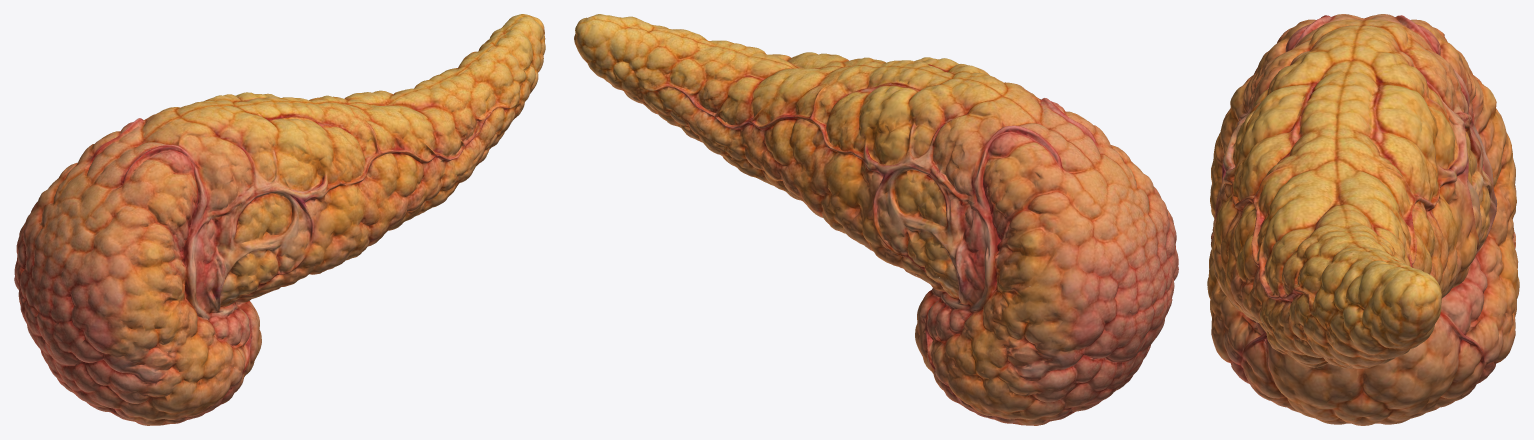
Rendered from pancreas.glb.
The picture shows the model from 3 angles, left to right: view 1: azimuth 30°, elevation 25°; view 2: azimuth 150°, elevation 25°; view 3: azimuth 270°, elevation 25°; orthographic projection. The views are drawn at different scales.
Visible parts, largest first — view 1: tripo_node_28f9ac4d-a7ee-4a69-acaa-c6201ef7be03; view 2: tripo_node_28f9ac4d-a7ee-4a69-acaa-c6201ef7be03; view 3: tripo_node_28f9ac4d-a7ee-4a69-acaa-c6201ef7be03.
Boxes of the visible parts, bbox=[...] form: tripo_node_28f9ac4d-a7ee-4a69-acaa-c6201ef7be03: bbox=[14, 14, 545, 425]; tripo_node_28f9ac4d-a7ee-4a69-acaa-c6201ef7be03: bbox=[574, 14, 1178, 425]; tripo_node_28f9ac4d-a7ee-4a69-acaa-c6201ef7be03: bbox=[1207, 14, 1519, 425].
Bounding box in the file's own units: 0.9804 × 0.5222 × 0.3615.
Materials: 1 (1 with a texture image).
